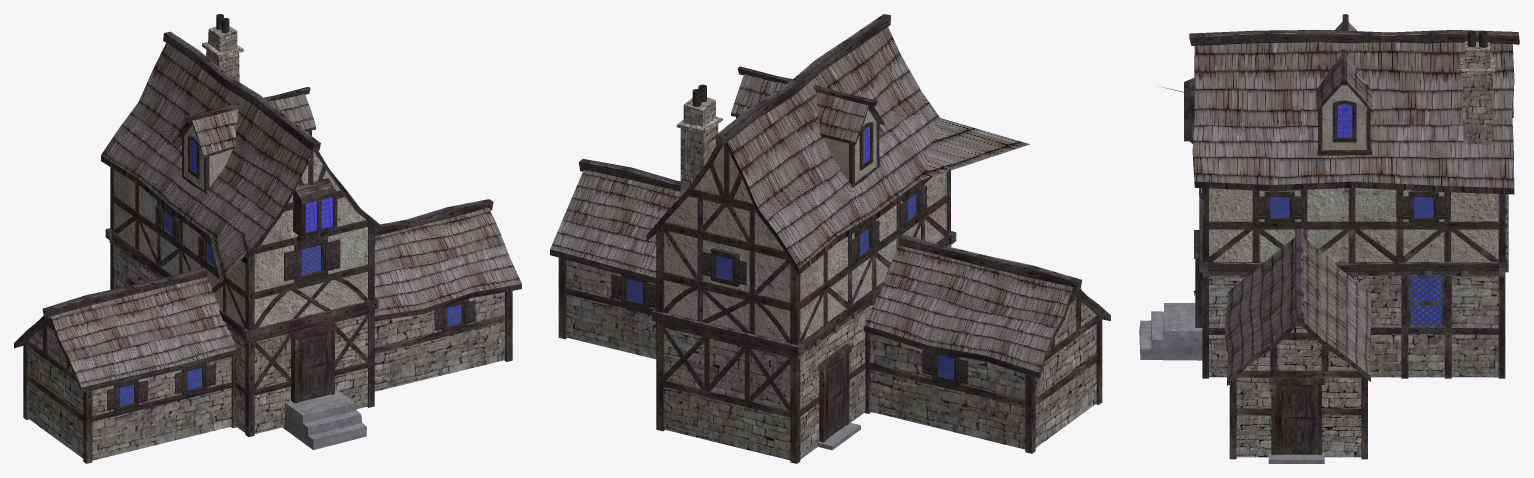
Rendered from medieval-house-2.obj.
The picture shows the model from 3 angles, left to right: view 1: azimuth 30°, elevation 25°; view 2: azimuth 150°, elevation 25°; view 3: azimuth 270°, elevation 25°; orthographic projection. The views are drawn at different scales.
Parts seen in each view (by area): view 1: Roof, Level1, WoodenBeams, Level2, RoofFrame, WindowFrames, Steps, DoorFront, Chimney, DoorFrontFrame, Level3, Window1Level3 (+1 smaller); view 2: Roof, Level1, WoodenBeams, Level2, RoofFrame, WindowFrames, Chimney, DoorBack, Level3, DoorBackFrame; view 3: Roof, Level1, WoodenBeams, Level2, RoofFrame, WindowFrames, Steps, Chimney, DoorSide, Level3, Window1Level1, DoorSideFrame (+5 smaller).
Part boxes in pixels (x1=…): Roof: x1=51, y1=42, x2=521, y2=387; Level1: x1=28, y1=245, x2=504, y2=460; WoodenBeams: x1=23, y1=104, x2=512, y2=463; Level2: x1=114, y1=152, x2=367, y2=327; RoofFrame: x1=14, y1=31, x2=521, y2=392; WindowFrames: x1=107, y1=136, x2=475, y2=412; Steps: x1=282, y1=390, x2=366, y2=449; DoorFront: x1=298, y1=331, x2=331, y2=402; Chimney: x1=202, y1=26, x2=243, y2=81; DoorFrontFrame: x1=289, y1=322, x2=336, y2=403; Level3: x1=184, y1=124, x2=308, y2=189; Window1Level3: x1=305, y1=197, x2=333, y2=232; Roof: x1=550, y1=27, x2=1072, y2=372; Level1: x1=566, y1=260, x2=1096, y2=460; WoodenBeams: x1=558, y1=107, x2=1102, y2=463; Level2: x1=664, y1=145, x2=946, y2=341; RoofFrame: x1=550, y1=14, x2=1110, y2=378; WindowFrames: x1=611, y1=122, x2=968, y2=385; Chimney: x1=676, y1=97, x2=722, y2=196; DoorBack: x1=825, y1=355, x2=846, y2=439; Level3: x1=823, y1=110, x2=876, y2=181; DoorBackFrame: x1=818, y1=344, x2=851, y2=442; Roof: x1=1163, y1=22, x2=1514, y2=379; Level1: x1=1209, y1=276, x2=1498, y2=457; WoodenBeams: x1=1199, y1=85, x2=1508, y2=459; Level2: x1=1209, y1=188, x2=1498, y2=261; RoofFrame: x1=1189, y1=14, x2=1519, y2=385; WindowFrames: x1=1184, y1=77, x2=1449, y2=384; Steps: x1=1139, y1=303, x2=1202, y2=360; Chimney: x1=1459, y1=41, x2=1495, y2=144; DoorSide: x1=1275, y1=385, x2=1317, y2=454; Level3: x1=1322, y1=85, x2=1366, y2=149; Window1Level1: x1=1411, y1=278, x2=1441, y2=325; DoorSideFrame: x1=1269, y1=377, x2=1324, y2=454.
Bounding box in the file's own units: 15.09 × 9.79 × 10.13.
Materials: 16 (16 with a texture image).
